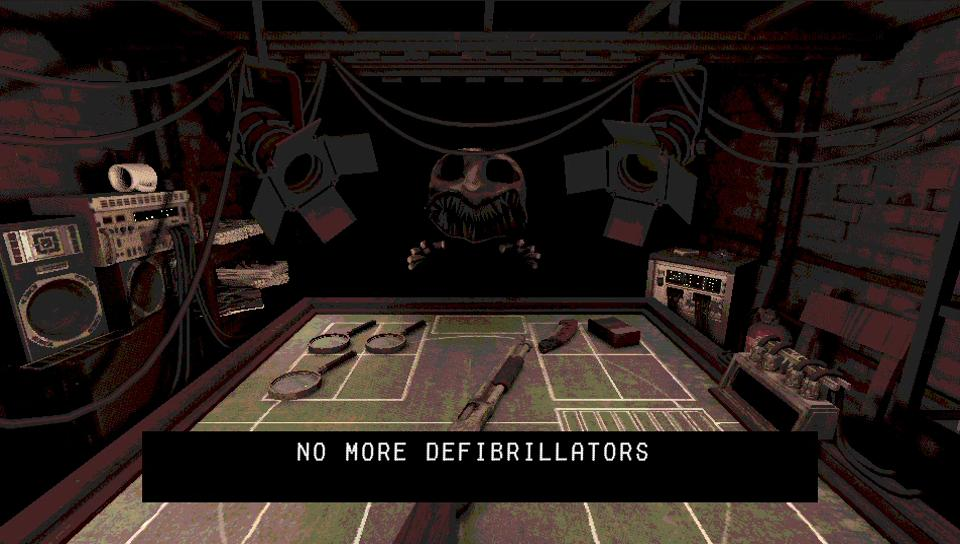ally: (38, 424, 905, 543)
cigar: (587, 316, 641, 347)
doubledamage: (538, 320, 578, 353)
emptyspace: (601, 356, 690, 399), (335, 354, 415, 400), (544, 353, 621, 399)
enemyspace: (208, 314, 737, 417)
gun: (454, 331, 535, 430), (395, 503, 471, 543)
lens: (263, 352, 355, 399), (307, 320, 376, 353), (365, 321, 425, 353)
